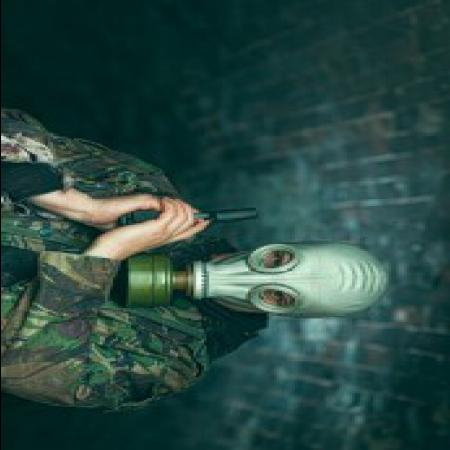Pistol: (110, 194, 268, 242)
